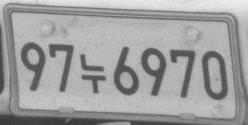0: (201, 50, 228, 100)
6: (113, 45, 139, 96)
7: (169, 48, 195, 98), (48, 43, 74, 92)
9: (140, 46, 167, 96), (20, 41, 46, 91)
누: (79, 53, 106, 94)
